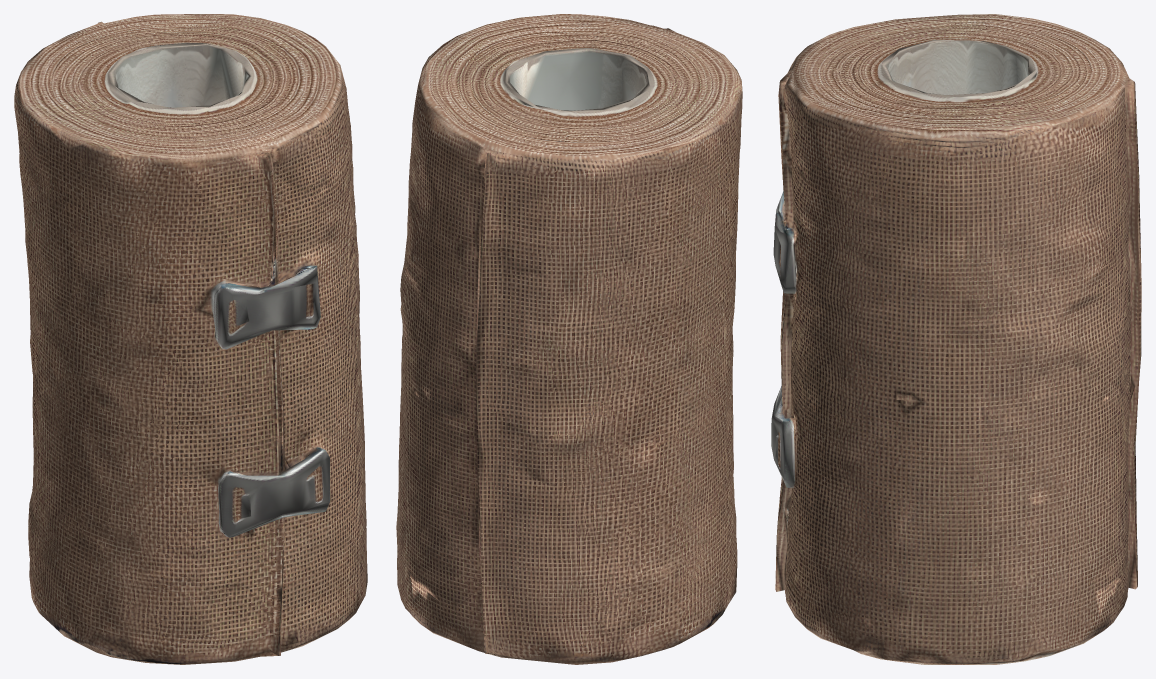
The model's file is Bandage.fbx.
3 renders of one model, left to right at view 1: azimuth 30°, elevation 25°; view 2: azimuth 150°, elevation 25°; view 3: azimuth 270°, elevation 25°, orthographic.
Visible parts, largest first — view 1: Mesh_0; view 2: Mesh_0; view 3: Mesh_0.
Part boxes in pixels (x1,y1,x2,y2): Mesh_0: (14,14,367,664); Mesh_0: (396,14,742,664); Mesh_0: (771,14,1141,664).
Bounding box in the file's own units: 111 × 190 × 118.
1 material, 1 textured.
